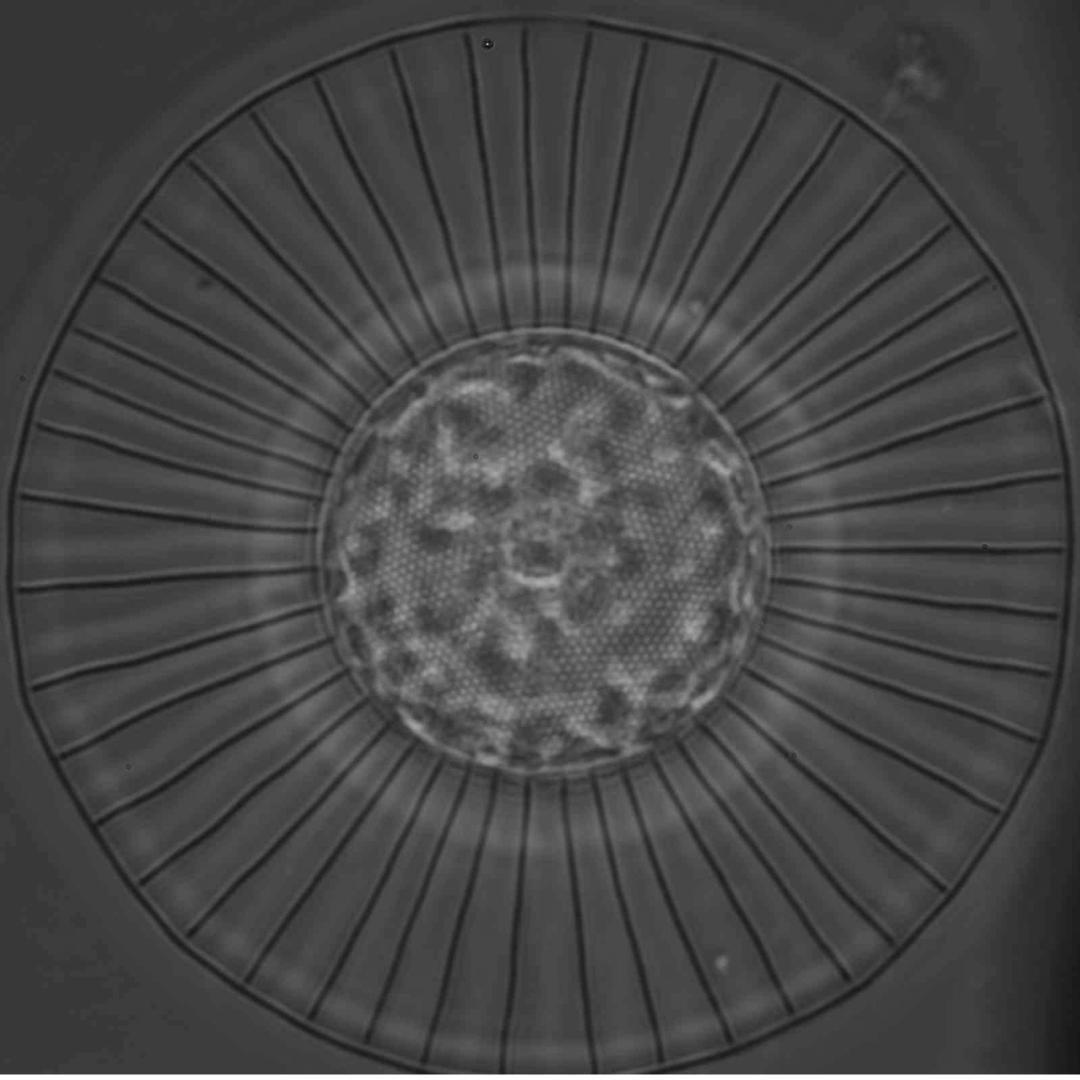planktoniella_sol: (7, 14, 1074, 1074)
